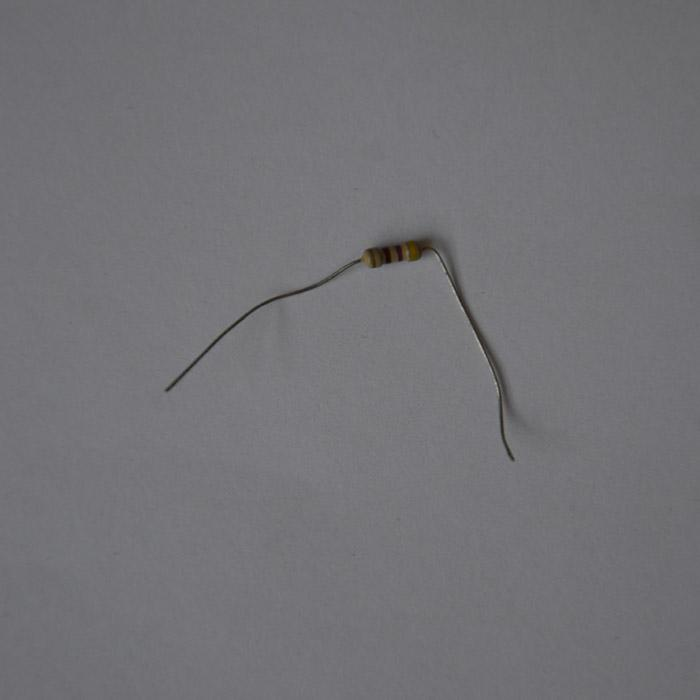resistor: (362, 240, 419, 268)
